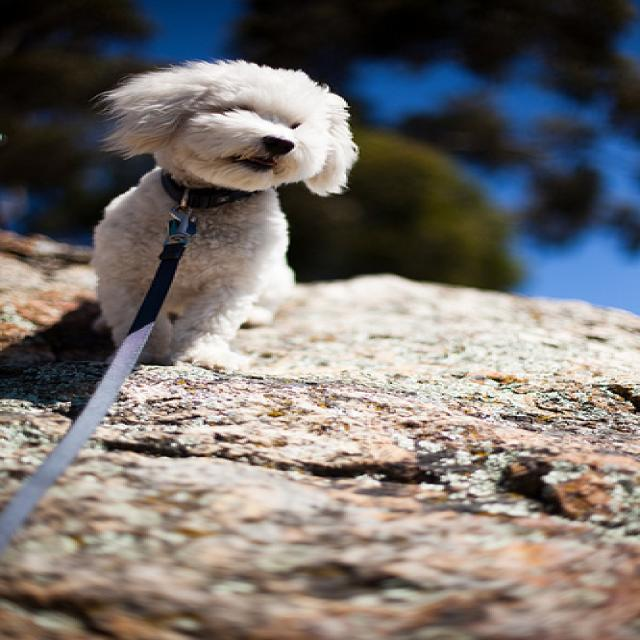dog-havanese: (77, 51, 365, 385)
